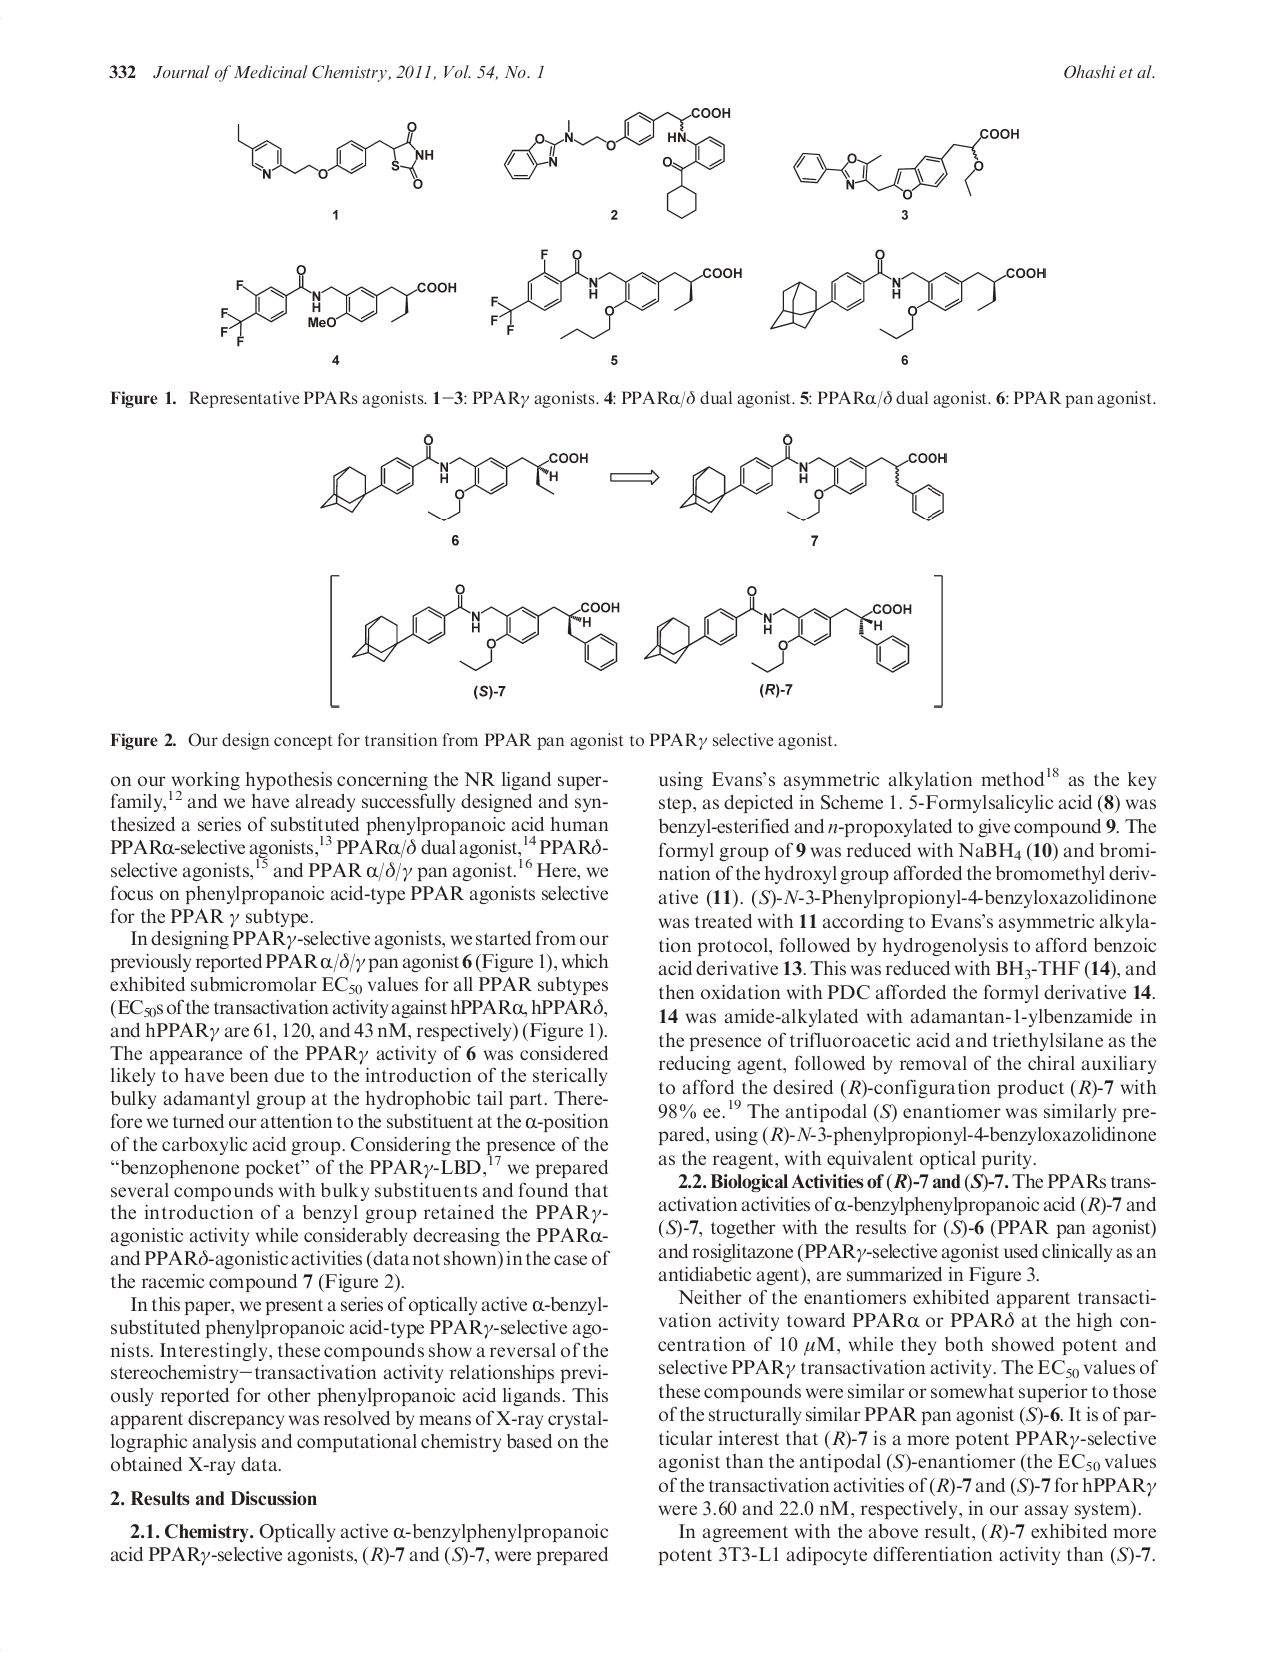exist_molecular: (497, 102, 733, 222), (677, 430, 949, 531), (481, 241, 745, 344), (765, 247, 1049, 343), (348, 580, 628, 676), (644, 582, 915, 680), (318, 430, 589, 523), (218, 263, 457, 348), (229, 114, 436, 202), (789, 126, 1023, 198)
